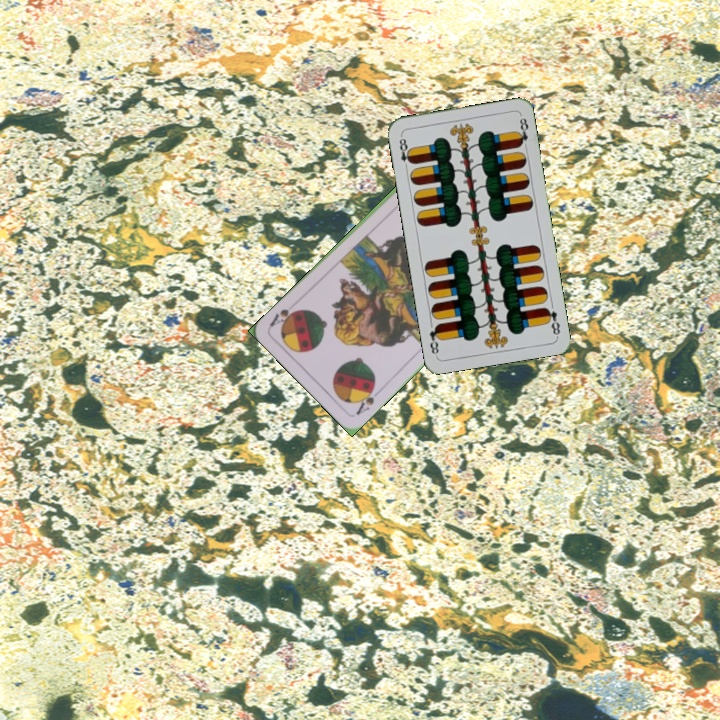E8: (395, 131, 415, 172), (541, 303, 563, 338)
SA: (352, 381, 383, 418)
